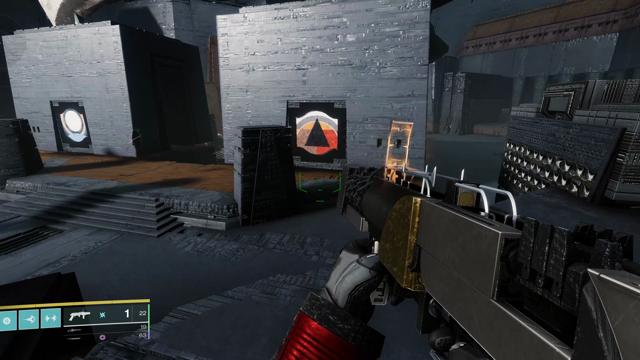pyramid: (296, 110, 339, 155)
traveler: (59, 108, 88, 142)
